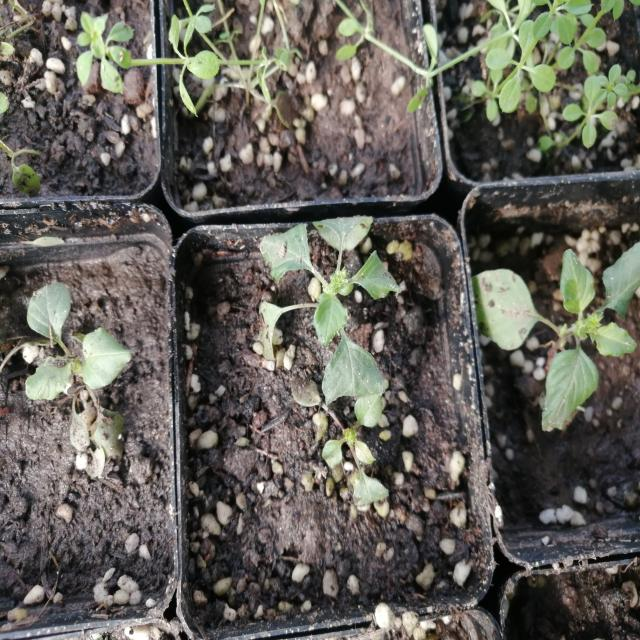pigweed: (471, 228, 640, 430), (253, 218, 404, 392), (18, 276, 137, 412)
